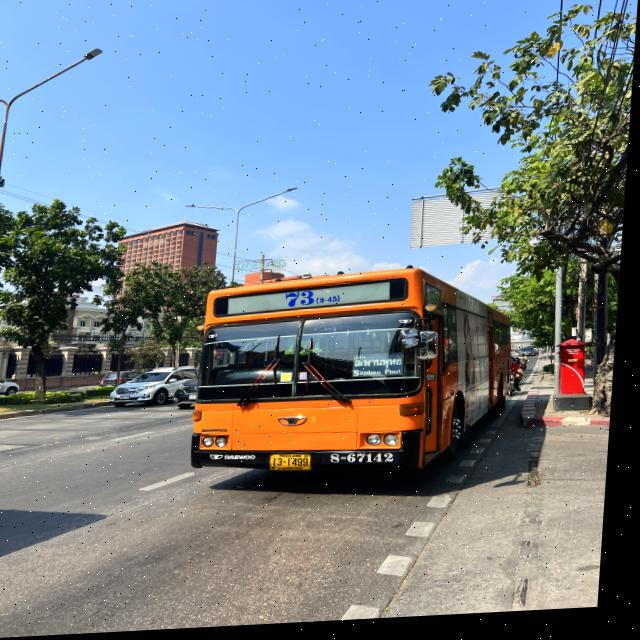BMTA-bus: (194, 267, 525, 486)
Bus-Line-Number: (283, 287, 352, 315)
Destination-Sign-Normal: (354, 356, 412, 383)
